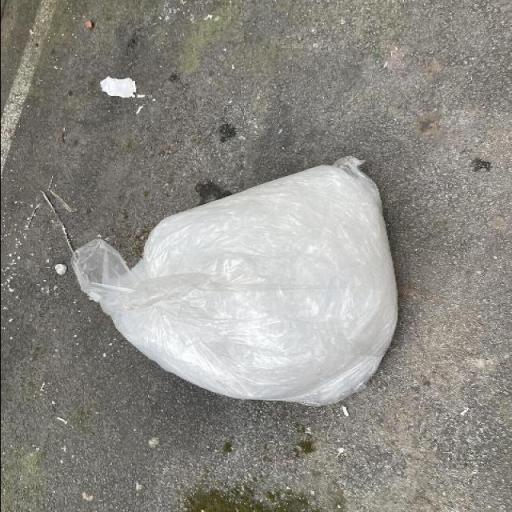plastic-bag: (72, 164, 399, 410)
